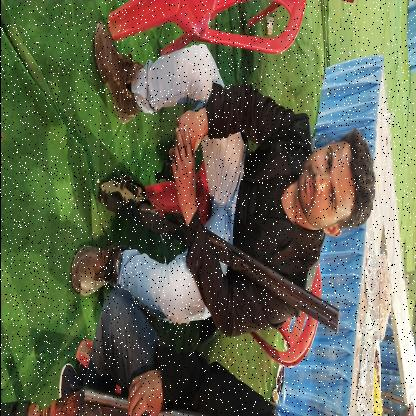rifle: (95, 167, 341, 337)
